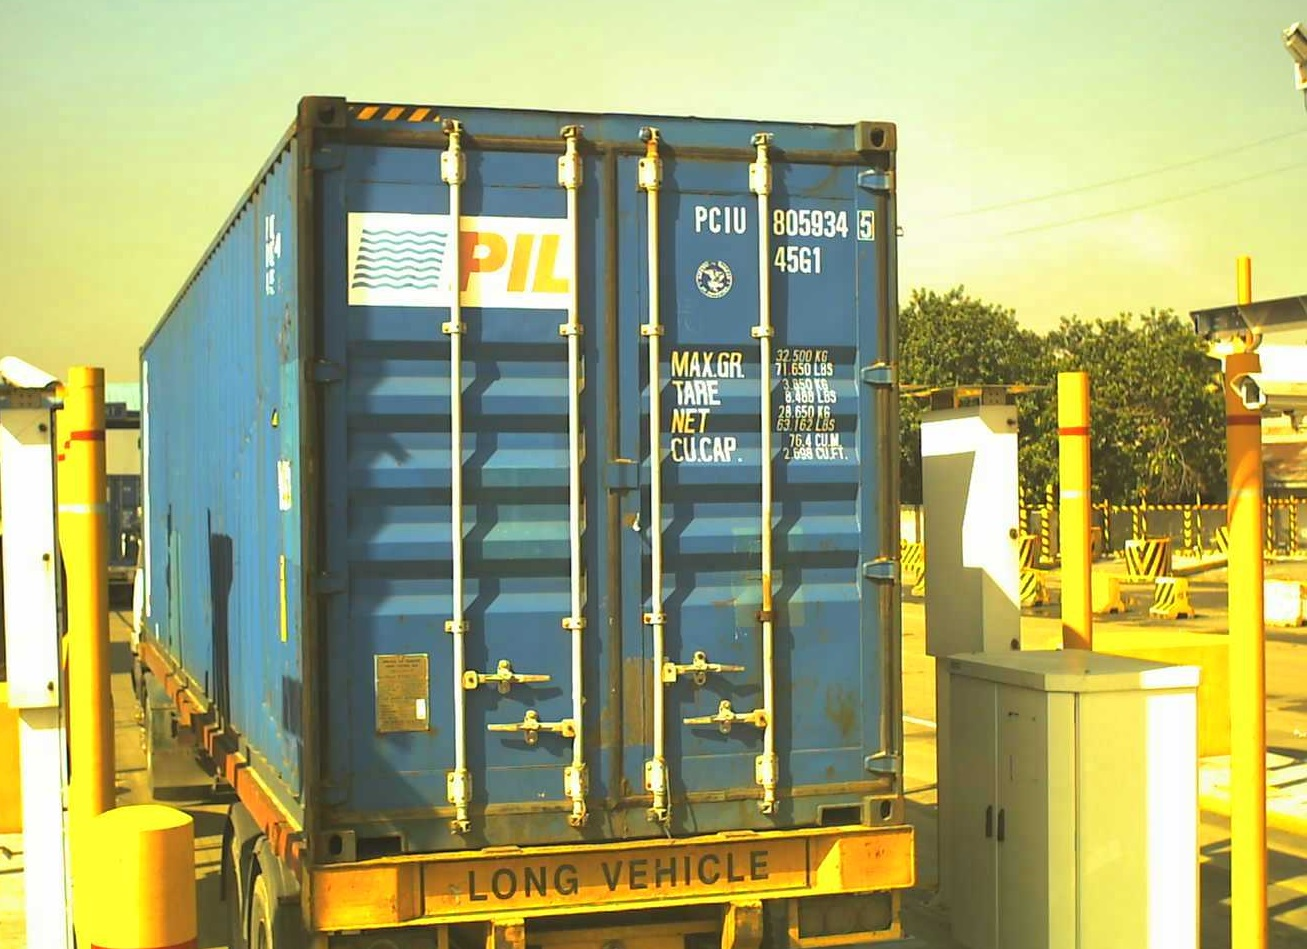container_door: (298, 96, 909, 880)
